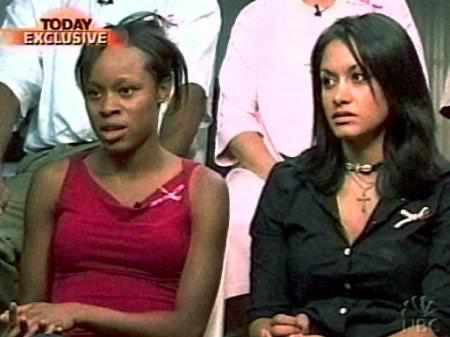Face: (83, 53, 162, 160), (316, 40, 387, 135)
